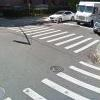Crosswalk: (21, 20, 100, 100)
